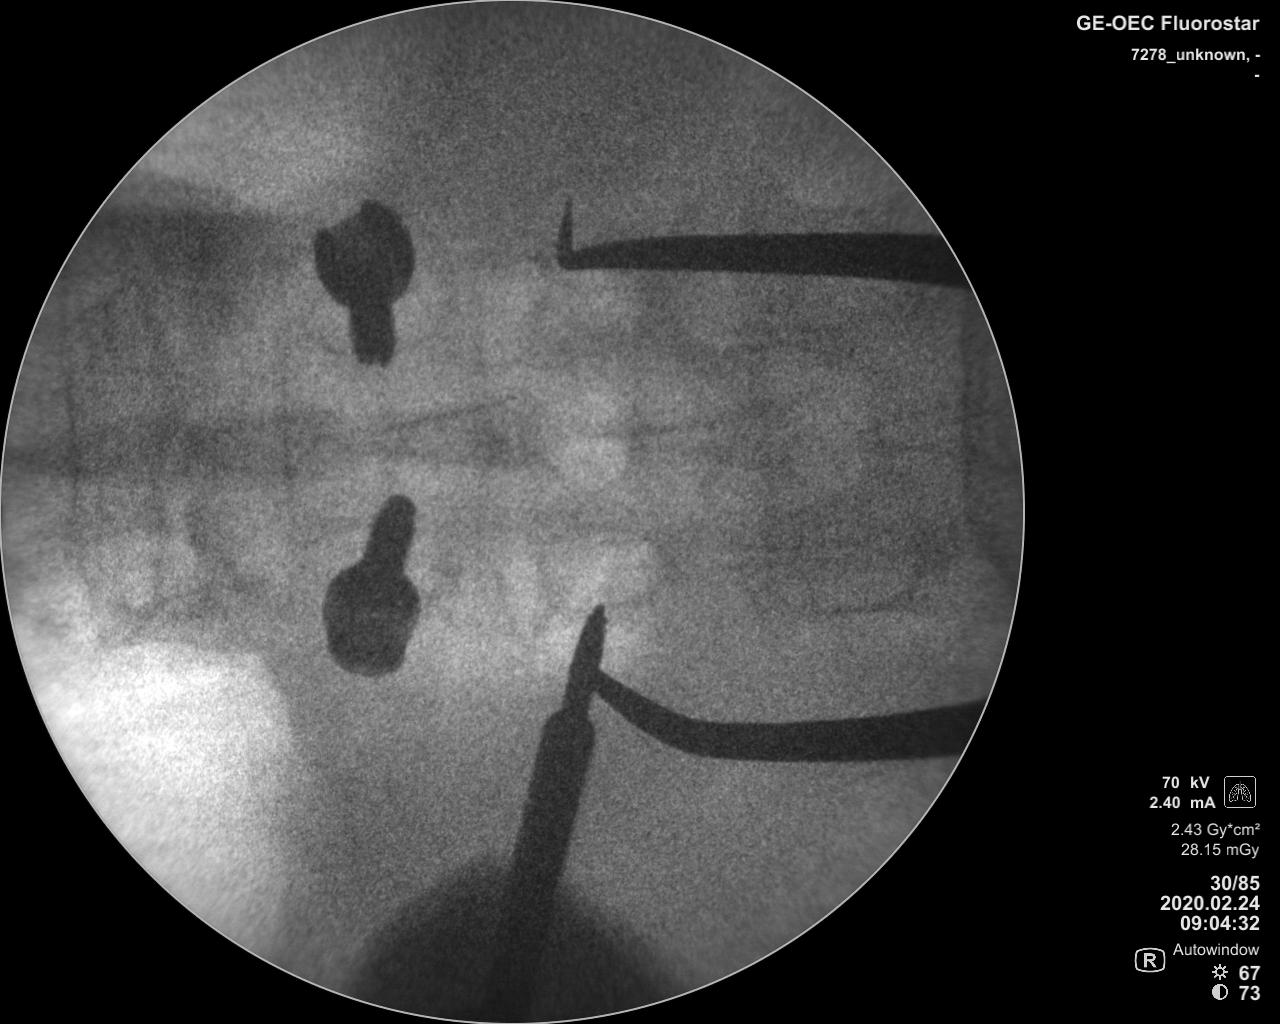eyes: (536, 528, 676, 604), (525, 267, 638, 348)
nose: (598, 395, 802, 471), (181, 406, 355, 486), (372, 396, 546, 473), (14, 413, 186, 490), (850, 405, 1014, 479)
